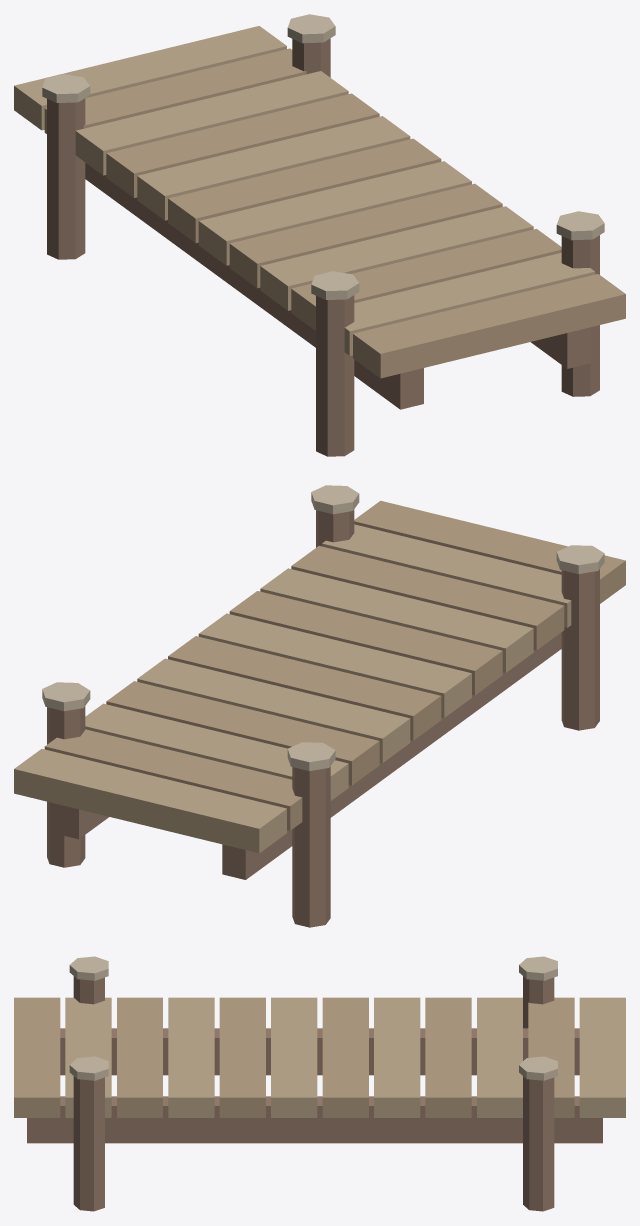
3 renders of one model, top to bottom at view 1: azimuth 30°, elevation 25°; view 2: azimuth 150°, elevation 25°; view 3: azimuth 270°, elevation 25°, orthographic. The views are drawn at different scales.
Parts seen in each view (by area): view 1: H01; view 2: H01; view 3: H01.
Boxes of the visible parts, x1,y1,x2,y2 form: H01: (14,14,625,456); H01: (14,485,625,927); H01: (14,956,625,1211).
Bounding box in the file's own units: 1.34 × 0.75 × 2.97.
